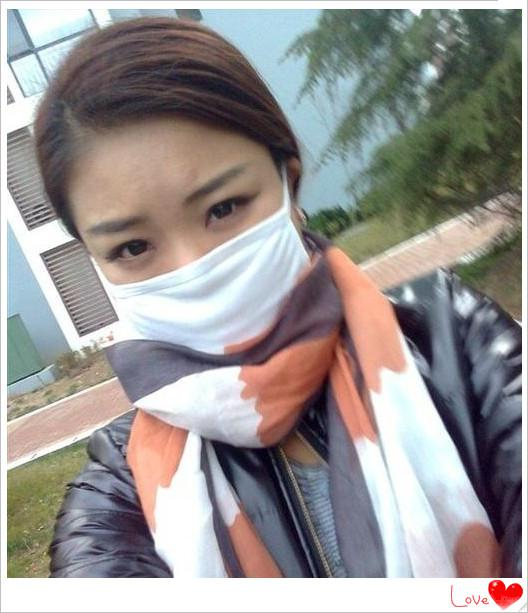OK: (106, 147, 305, 361)
